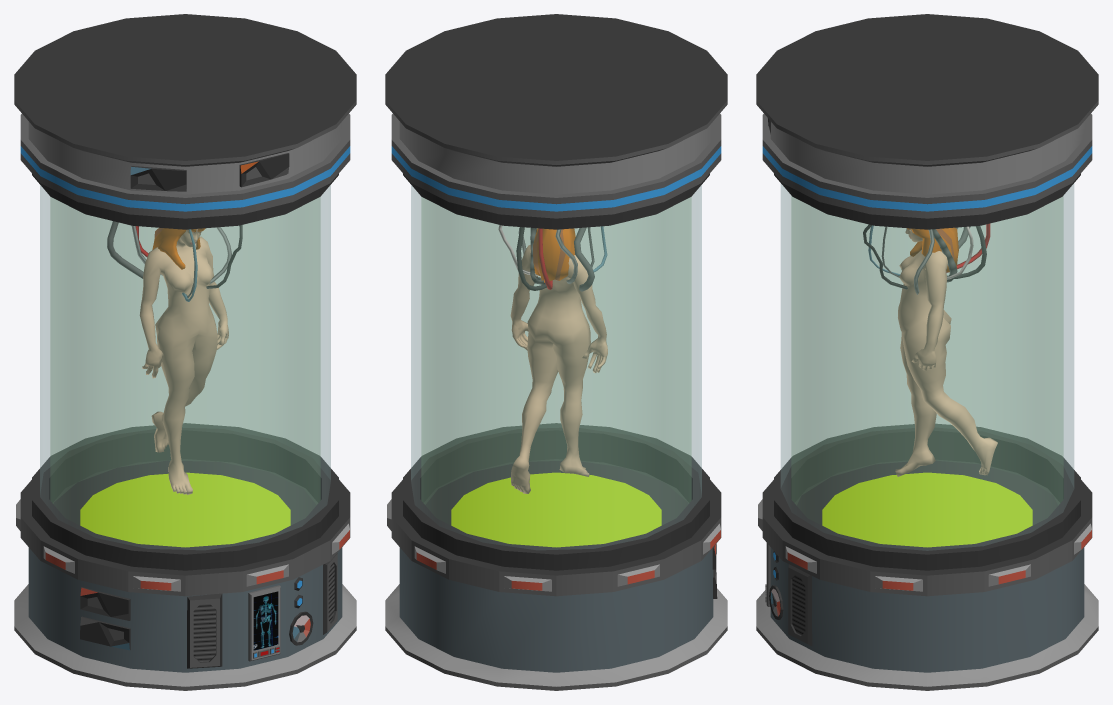
File: Human_Tank_2.fbx
The picture shows the model from 3 angles, left to right: view 1: azimuth 30°, elevation 25°; view 2: azimuth 150°, elevation 25°; view 3: azimuth 270°, elevation 25°; orthographic projection.
Visible parts, largest first — view 1: Human_Tank_2, Human2; view 2: Human_Tank_2, Human2; view 3: Human_Tank_2, Human2.
Boxes of the visible parts, bbox=[...] form: Human_Tank_2: bbox=[14, 14, 356, 690]; Human2: bbox=[107, 221, 242, 494]; Human_Tank_2: bbox=[385, 14, 727, 690]; Human2: bbox=[498, 225, 607, 493]; Human_Tank_2: bbox=[756, 14, 1098, 690]; Human2: bbox=[863, 223, 997, 476].
Size of the model in its own units: 221 by 372 by 218.
